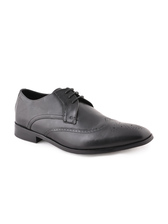shoes: (11, 81, 153, 155)
